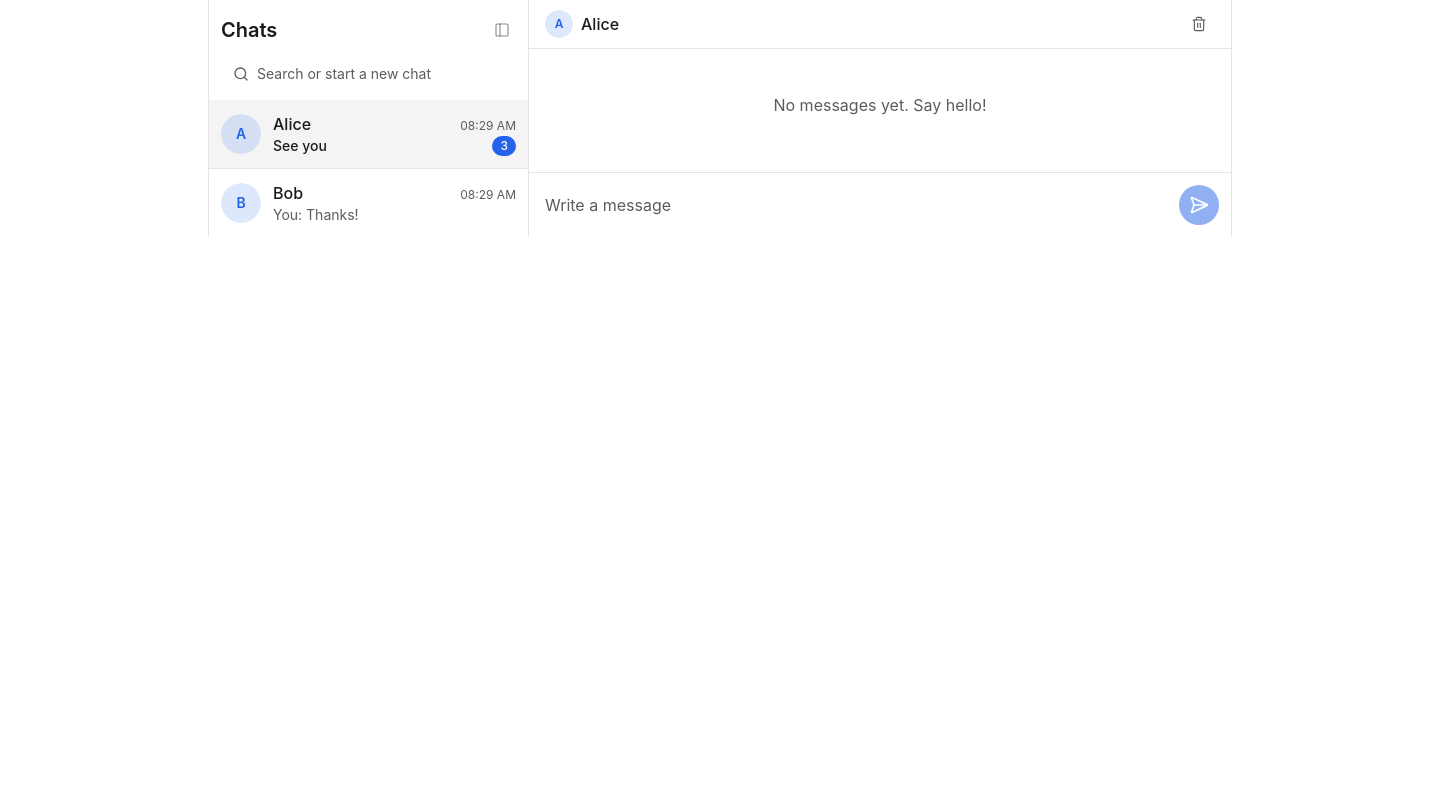
Scenario: delete chat › cancels with Escape without deleting
Expected: the element named "Chat with Alice" is shown, [529,0,1231,237]
Click the button named "Delete chat" at (1199,24), box [1183,8,1215,40]
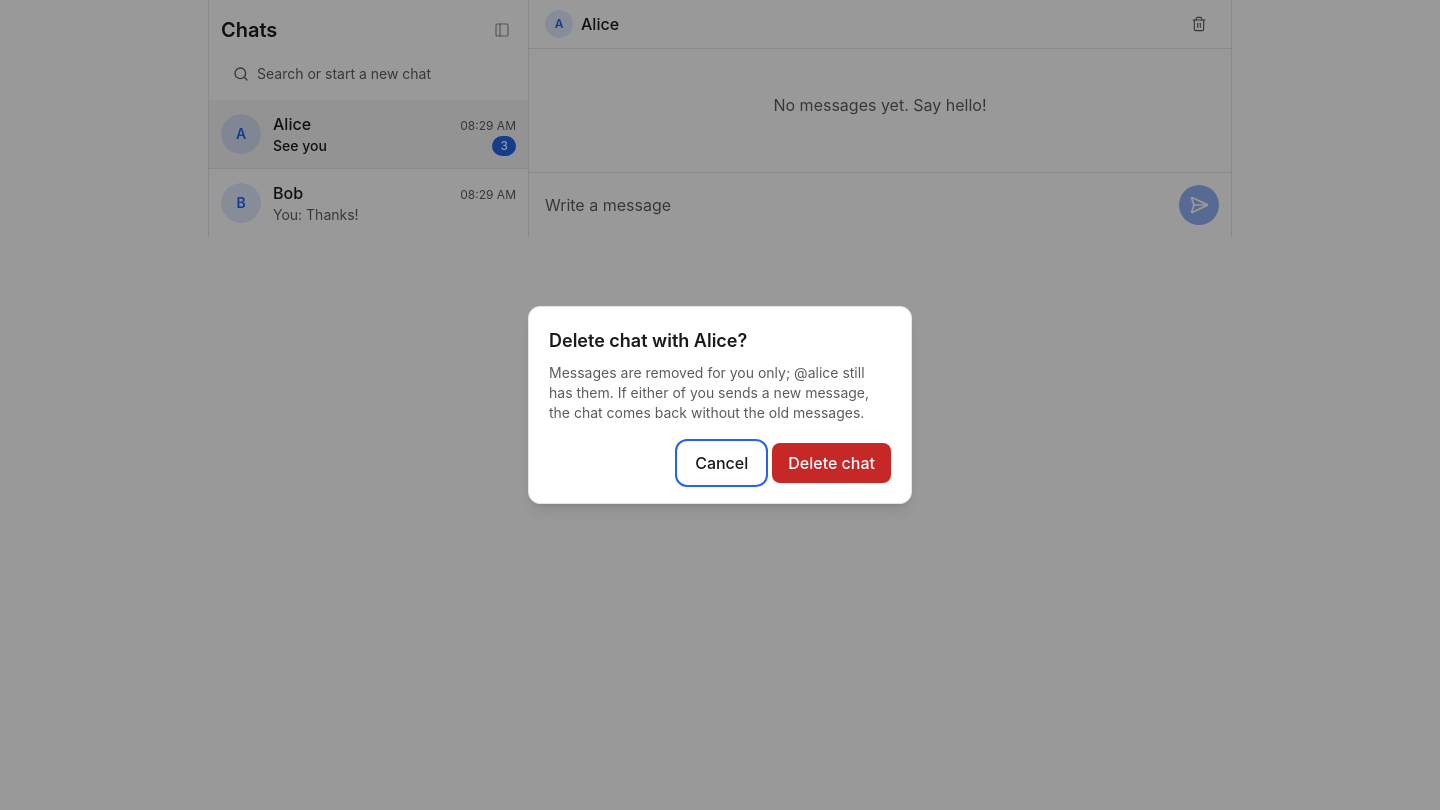
Press Escape
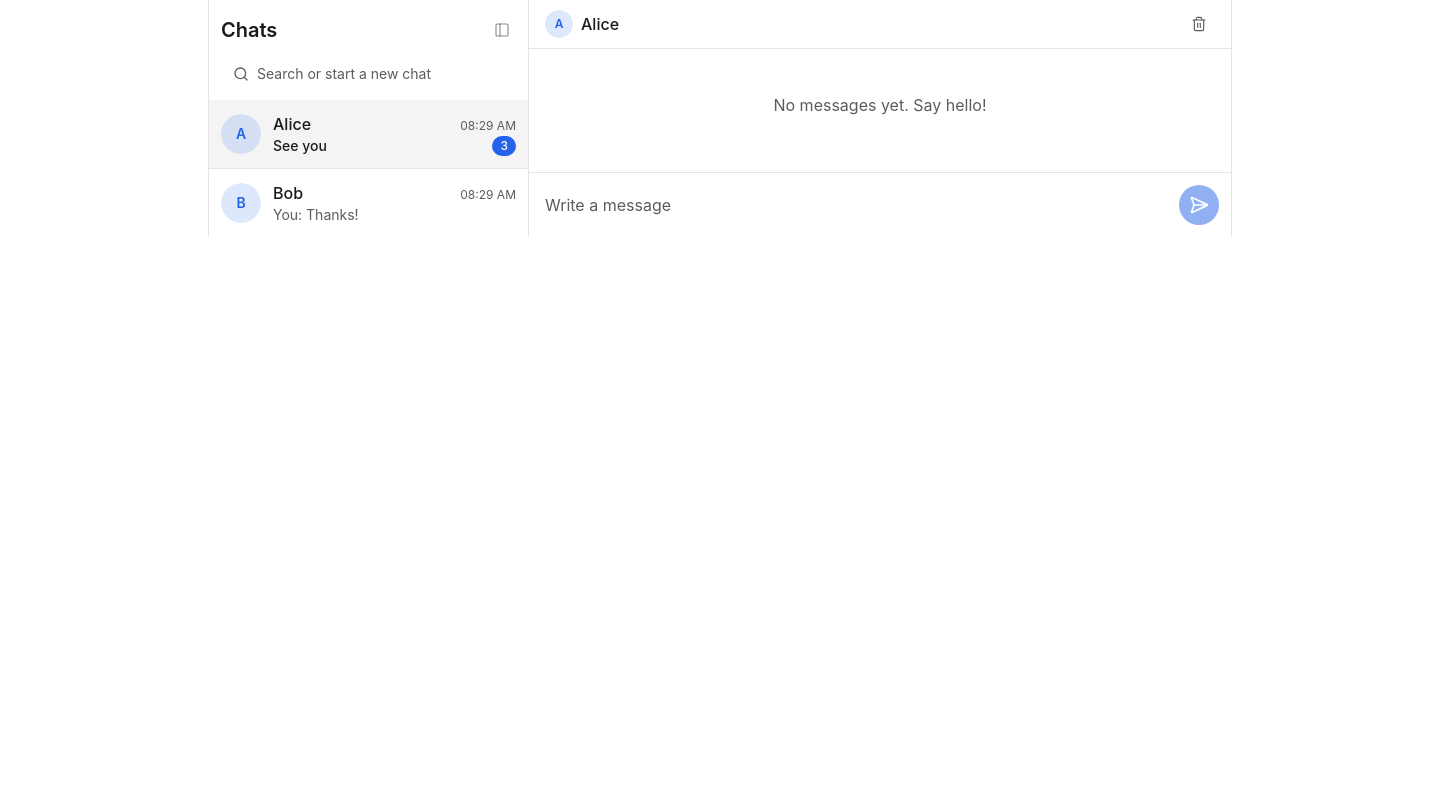
Expected: the element named "Chat with Alice" is shown, [529,0,1231,237]
Expected: the dialog is gone
